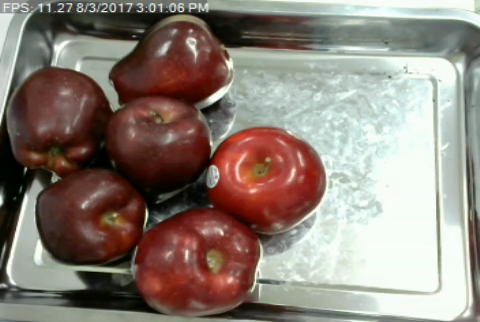Apple: (127, 204, 266, 318), (200, 124, 328, 236), (107, 13, 235, 112), (3, 64, 113, 178), (30, 168, 150, 270), (102, 92, 214, 197)
